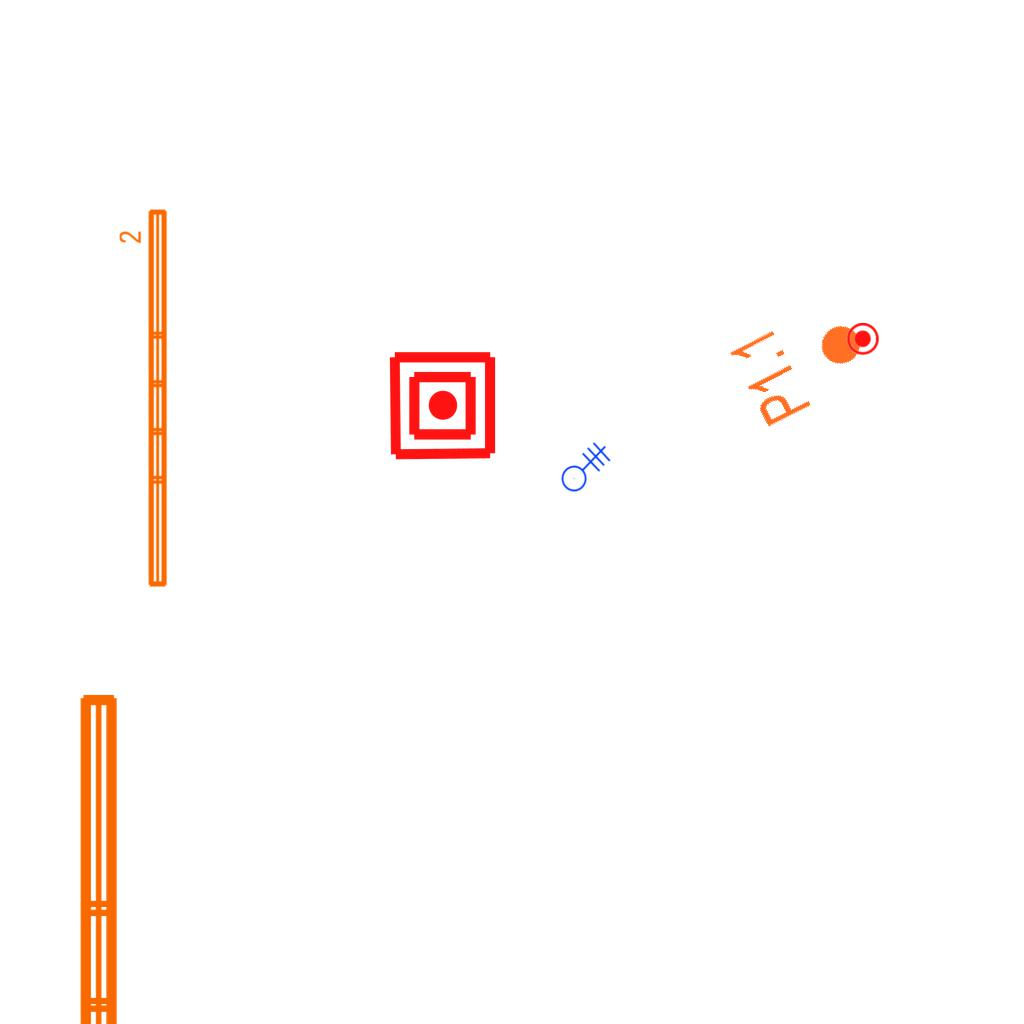Ambulanz_Pendelleuchte_LED: (68, 684, 180, 1024), (117, 205, 173, 592)
Downlight_LED_Einbauleuchten_Flur_2: (724, 290, 881, 432)
Elektroanschluss_allgemein_400V_Geraeteanschlussdose_400V: (553, 436, 611, 492)
NAM-Nichtautomatischer_Melder: (386, 349, 499, 462)
Taster: (846, 323, 879, 356)
